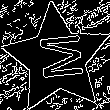M_W: (30, 33, 84, 85)
